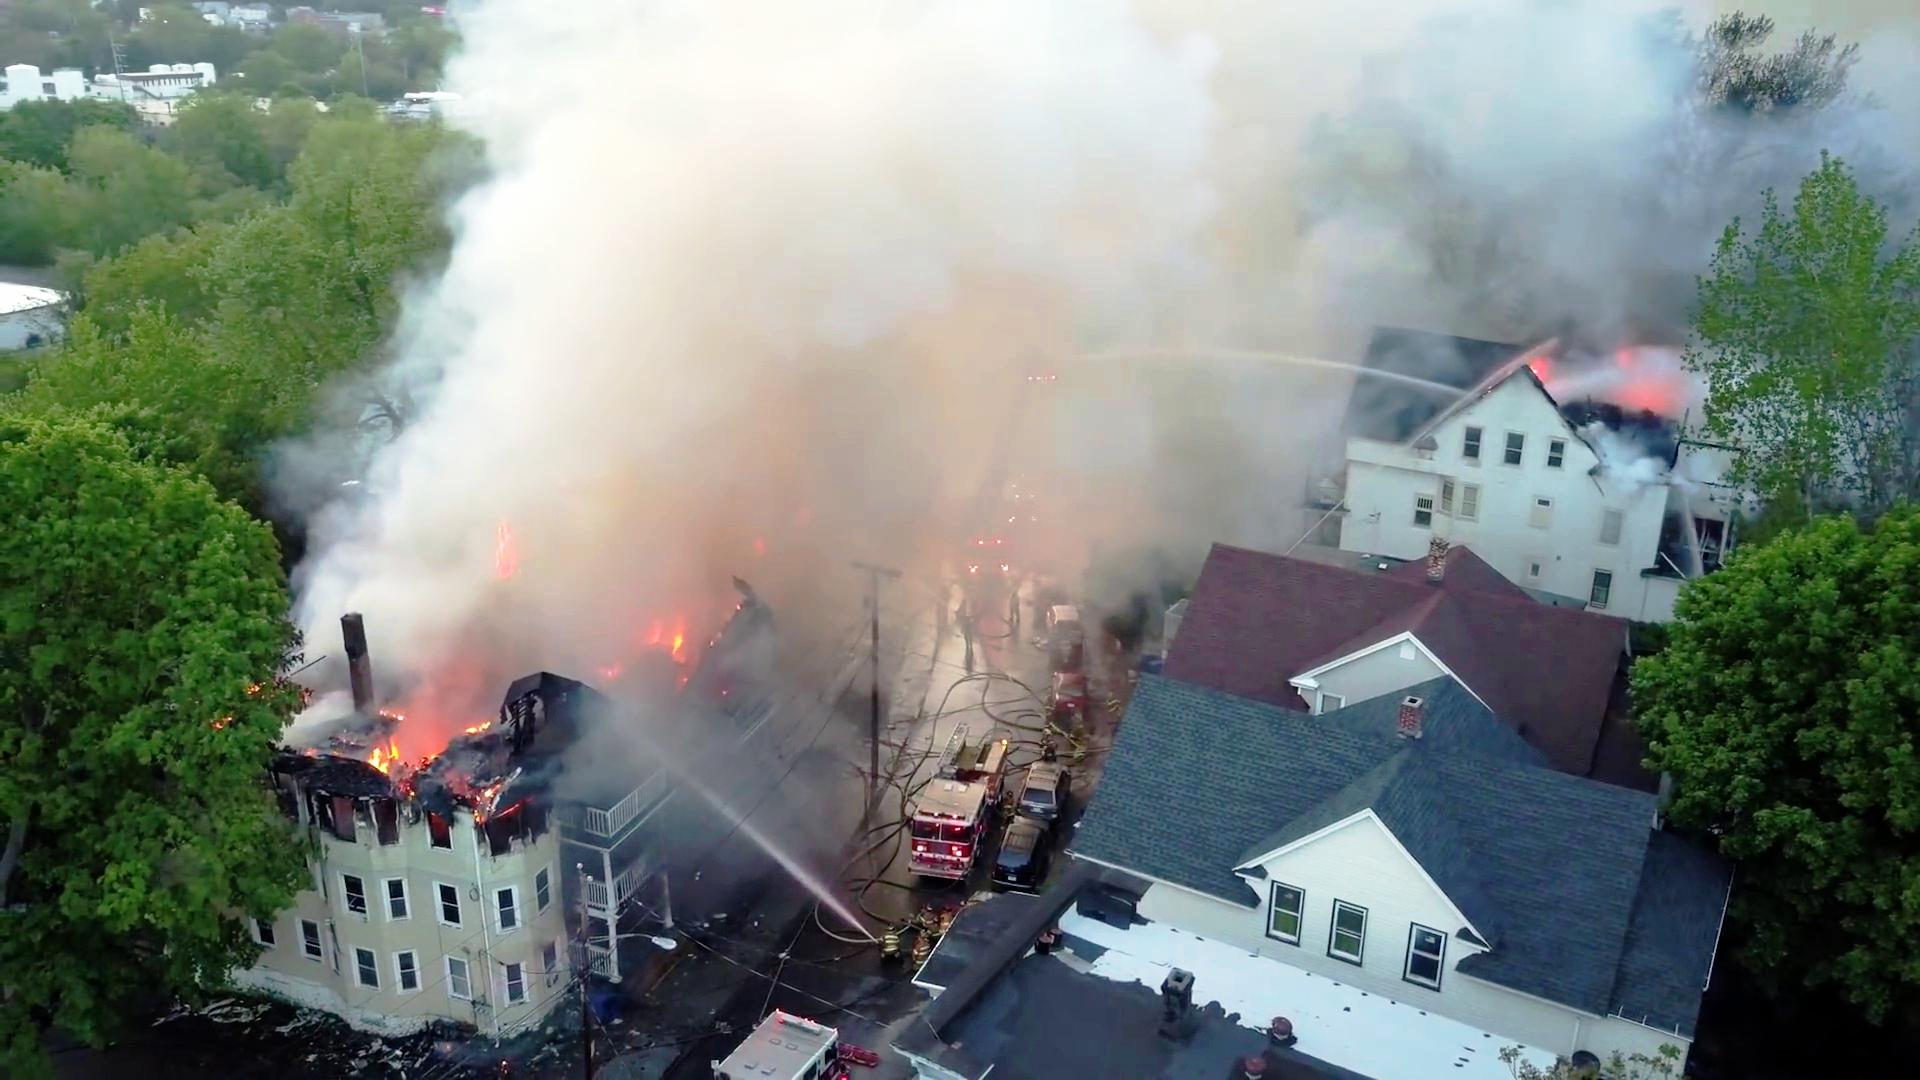fire: (356, 733, 442, 781)
smoke: (463, 8, 1019, 522)
